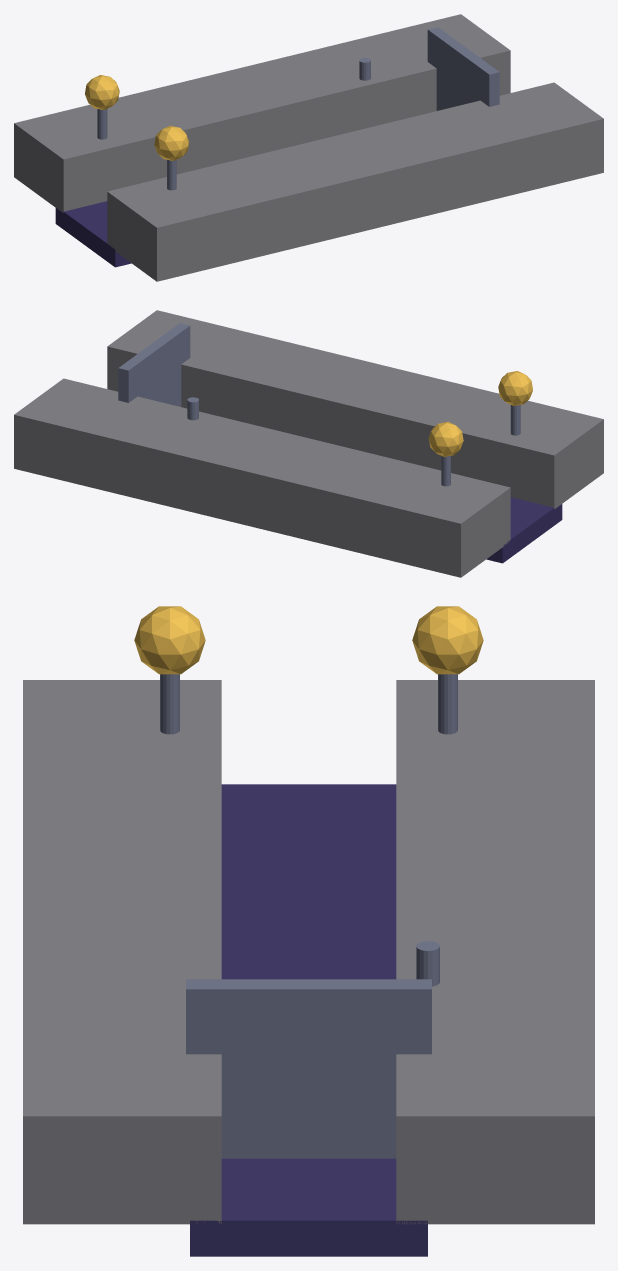
Rendered from starless-canal.glb.
3 views of the same model, one above another, from view 1: azimuth 30°, elevation 25°; view 2: azimuth 150°, elevation 25°; view 3: azimuth 270°, elevation 25° (orthographic). The views are drawn at different scales.
Visible parts, largest first — view 1: canal-right-bank, canal-left-bank, canal-floodgate, canal-channel-floor, canal-lantern-0, canal-lantern-1; view 2: canal-left-bank, canal-right-bank, canal-floodgate, canal-channel-floor, canal-lantern-0, canal-lantern-1; view 3: canal-right-bank, canal-left-bank, canal-channel-floor, canal-floodgate, canal-lantern-0, canal-lantern-1, canal-lantern-post-0, canal-lantern-post-1, canal-mooring-post.
Boxes of the visible parts, left/top/right/bottom form: canal-right-bank: left=107, top=82, right=603, bottom=281; canal-left-bank: left=14, top=14, right=510, bottom=213; canal-floodgate: left=427, top=27, right=499, bottom=110; canal-channel-floor: left=55, top=201, right=131, bottom=267; canal-lantern-0: left=85, top=75, right=119, bottom=109; canal-lantern-1: left=154, top=126, right=189, bottom=160; canal-left-bank: left=14, top=378, right=510, bottom=577; canal-right-bank: left=107, top=310, right=603, bottom=509; canal-floodgate: left=118, top=323, right=190, bottom=406; canal-channel-floor: left=486, top=497, right=562, bottom=563; canal-lantern-0: left=428, top=422, right=463, bottom=456; canal-lantern-1: left=498, top=371, right=532, bottom=405; canal-right-bank: left=23, top=680, right=221, bottom=1224; canal-left-bank: left=396, top=680, right=594, bottom=1224; canal-channel-floor: left=190, top=784, right=427, bottom=1256; canal-floodgate: left=186, top=979, right=431, bottom=1158; canal-lantern-0: left=412, top=606, right=483, bottom=674; canal-lantern-1: left=134, top=606, right=205, bottom=674; canal-lantern-post-0: left=438, top=674, right=457, bottom=734; canal-lantern-post-1: left=160, top=674, right=179, bottom=734; canal-mooring-post: left=416, top=941, right=439, bottom=986.
Size of the model in its own units: 2.6 by 0.73 by 1.44.
